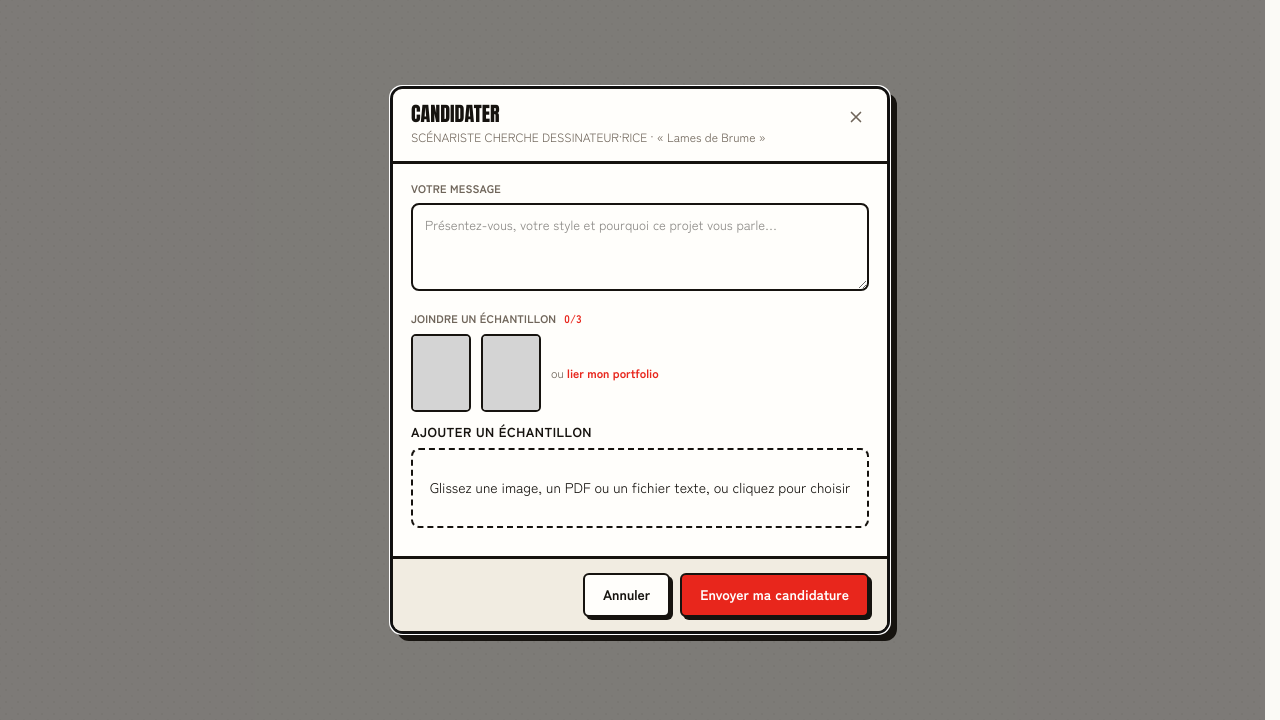
ApplyCallModal › blocks submit and shows the sample-required message when no sample is chosen
Click the button "Envoyer ma candidature": (775, 595) [680,573,869,617]
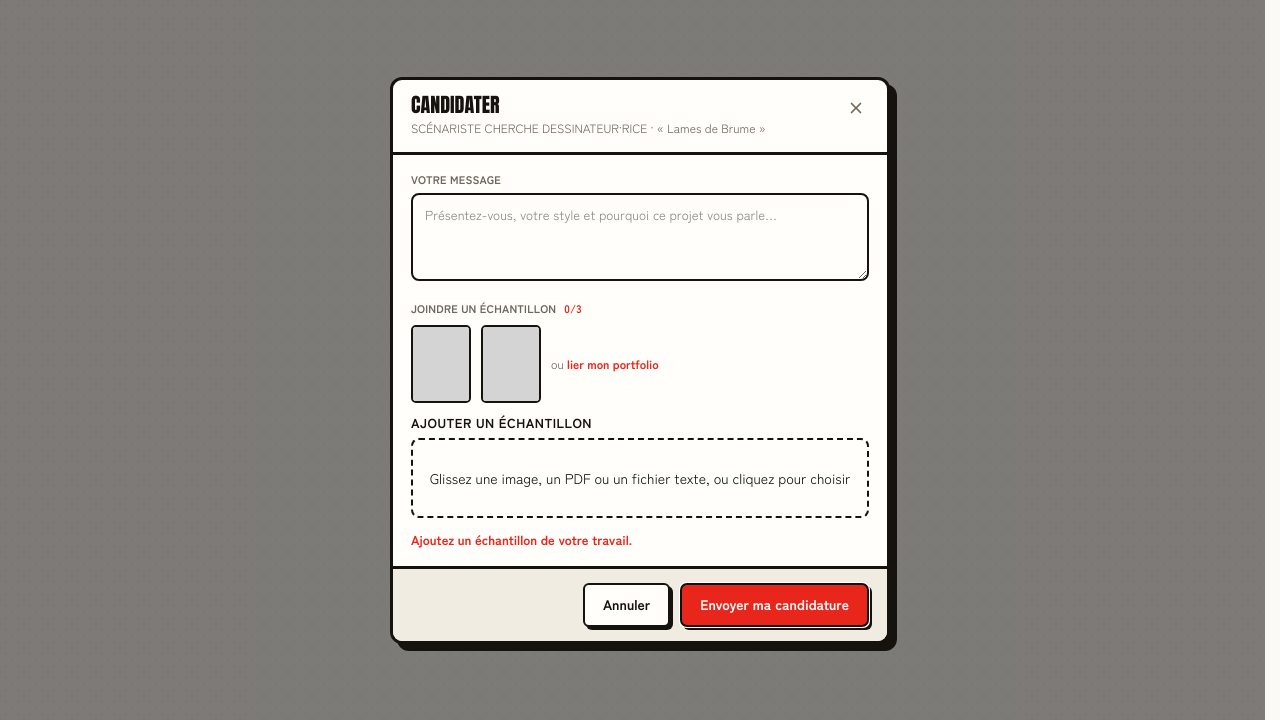
Expected: the text "Ajoutez un échantillon de votre travail." is shown, [411,530,632,549]
